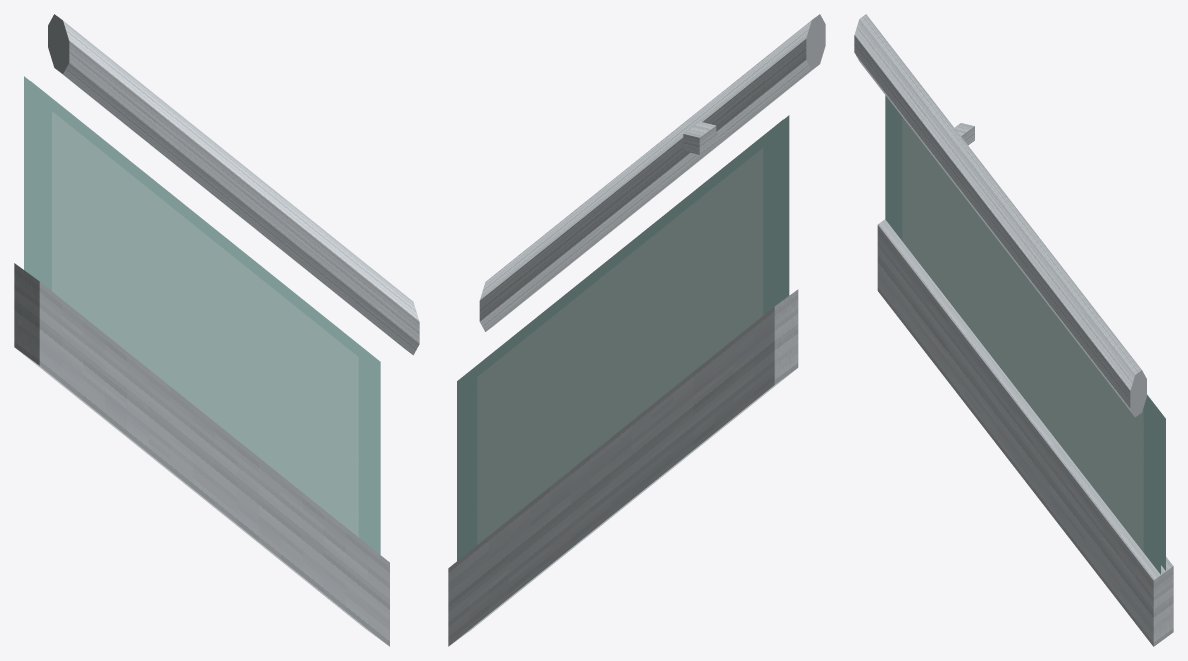
Rendered from mid_neg.obj.
3 views of the same model, side by side, from view 1: azimuth 30°, elevation 25°; view 2: azimuth 150°, elevation 25°; view 3: azimuth 330°, elevation 25° (orthographic). The views are drawn at different scales.
Visible parts, largest first — view 1: railing_glass_stainless_mid_neg; view 2: railing_glass_stainless_mid_neg; view 3: railing_glass_stainless_mid_neg.
Boxes of the visible parts, box(x1,y1,x2,y2) form: railing_glass_stainless_mid_neg: box(14, 14, 419, 646); railing_glass_stainless_mid_neg: box(448, 14, 825, 646); railing_glass_stainless_mid_neg: box(854, 14, 1173, 646).
Size of the model in its own units: 1 by 1.99 by 0.2707.
